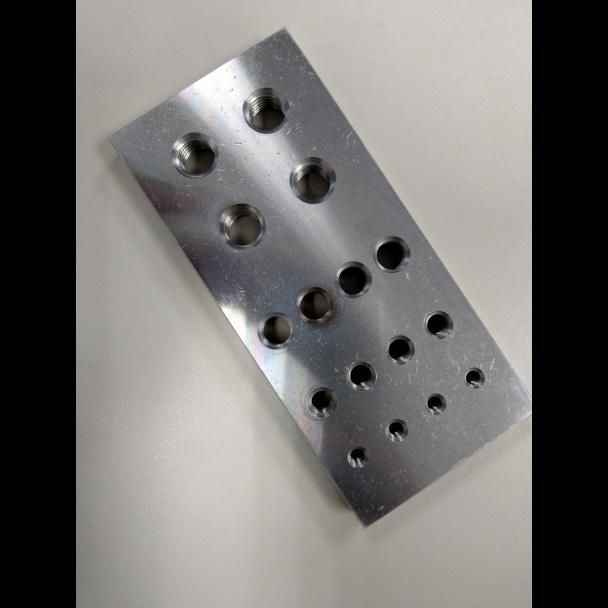hole: (289, 155, 338, 206), (169, 131, 220, 179), (241, 86, 290, 135), (218, 202, 267, 250), (333, 260, 373, 300), (295, 285, 334, 326), (372, 234, 412, 273), (256, 311, 295, 349), (345, 360, 377, 393), (307, 386, 338, 418), (385, 333, 416, 365), (423, 309, 455, 340), (384, 417, 410, 443), (346, 444, 370, 468), (424, 391, 447, 416), (463, 366, 486, 391)
